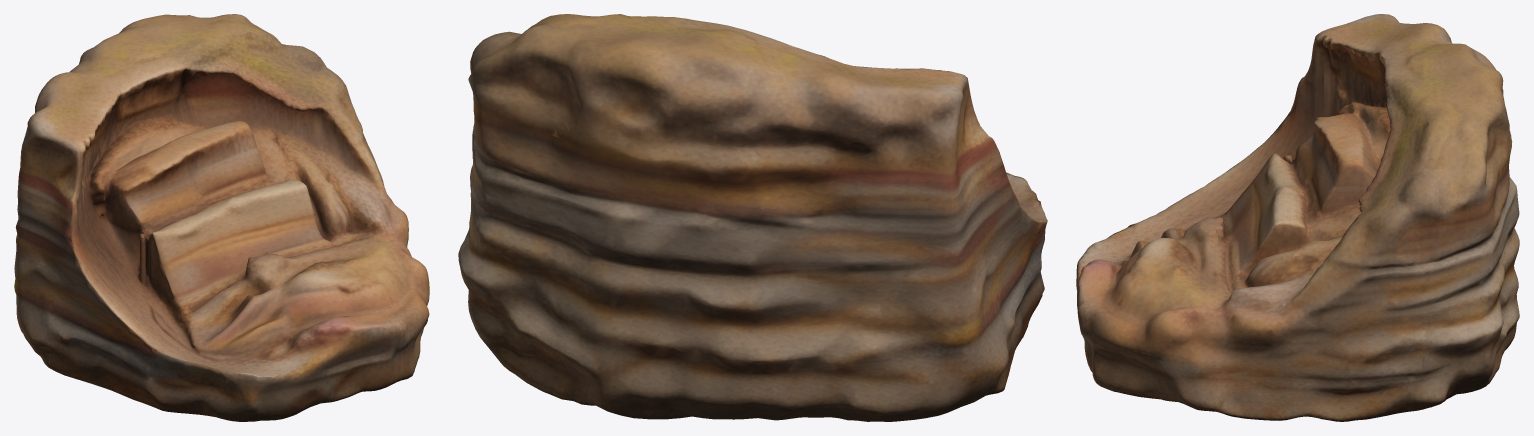
The picture shows the model from 3 angles, left to right: view 1: azimuth 30°, elevation 25°; view 2: azimuth 150°, elevation 25°; view 3: azimuth 270°, elevation 25°; orthographic projection. The views are drawn at different scales.
Visible parts, largest first — view 1: world; view 2: world; view 3: world.
Boxes of the visible parts, x1,y1,x2,y2 form: world: (14,14,429,421); world: (458,14,1047,421); world: (1076,14,1519,421).
Size of the model in its own units: 27.22 by 19.76 by 28.
1 material, 1 textured.
